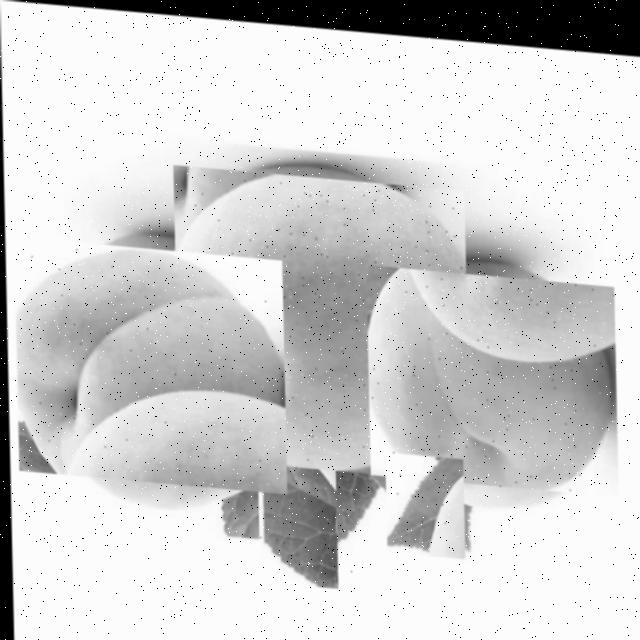Apricot: (175, 171, 467, 464), (16, 245, 283, 474), (368, 261, 615, 480)
Leaf: (236, 440, 355, 566), (386, 452, 460, 548)
